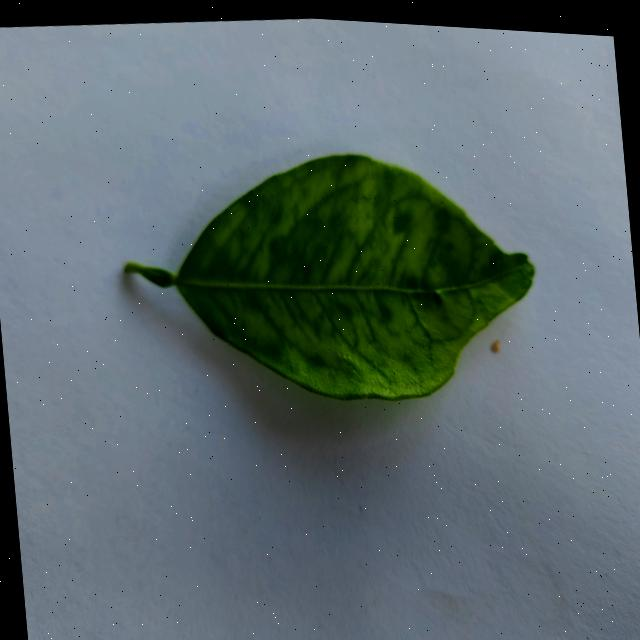greening: (126, 155, 532, 399)
